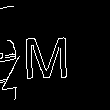M_N: (25, 30, 74, 81)
